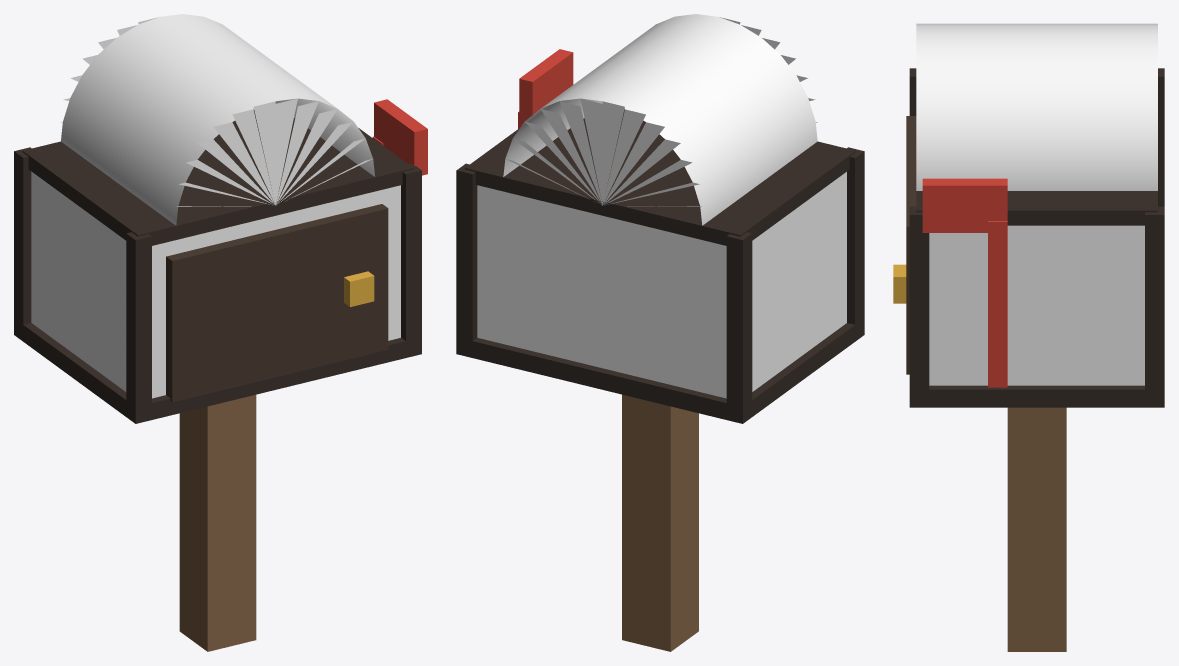
Rendered from home-mailbox.glb.
3 renders of one model, left to right at view 1: azimuth 30°, elevation 25°; view 2: azimuth 150°, elevation 25°; view 3: azimuth 270°, elevation 25°, orthographic. The views are drawn at different scales.
Parts seen in each view (by area): view 1: DetailStaticNode, PaintShellNode, MailboxFlag; view 2: PaintShellNode, DetailStaticNode, MailboxFlag; view 3: PaintShellNode, DetailStaticNode, MailboxFlag.
Boxes of the visible parts, x1,y1,x2,y2 form: DetailStaticNode: [14, 109, 421, 651]; PaintShellNode: [31, 14, 400, 398]; MailboxFlag: [372, 99, 427, 175]; PaintShellNode: [477, 14, 846, 398]; DetailStaticNode: [456, 109, 864, 651]; MailboxFlag: [518, 49, 573, 128]; PaintShellNode: [916, 23, 1157, 385]; DetailStaticNode: [893, 68, 1164, 651]; MailboxFlag: [922, 178, 1007, 387].
Bounding box in the file's own units: 1.11 × 2.04 × 0.83.
